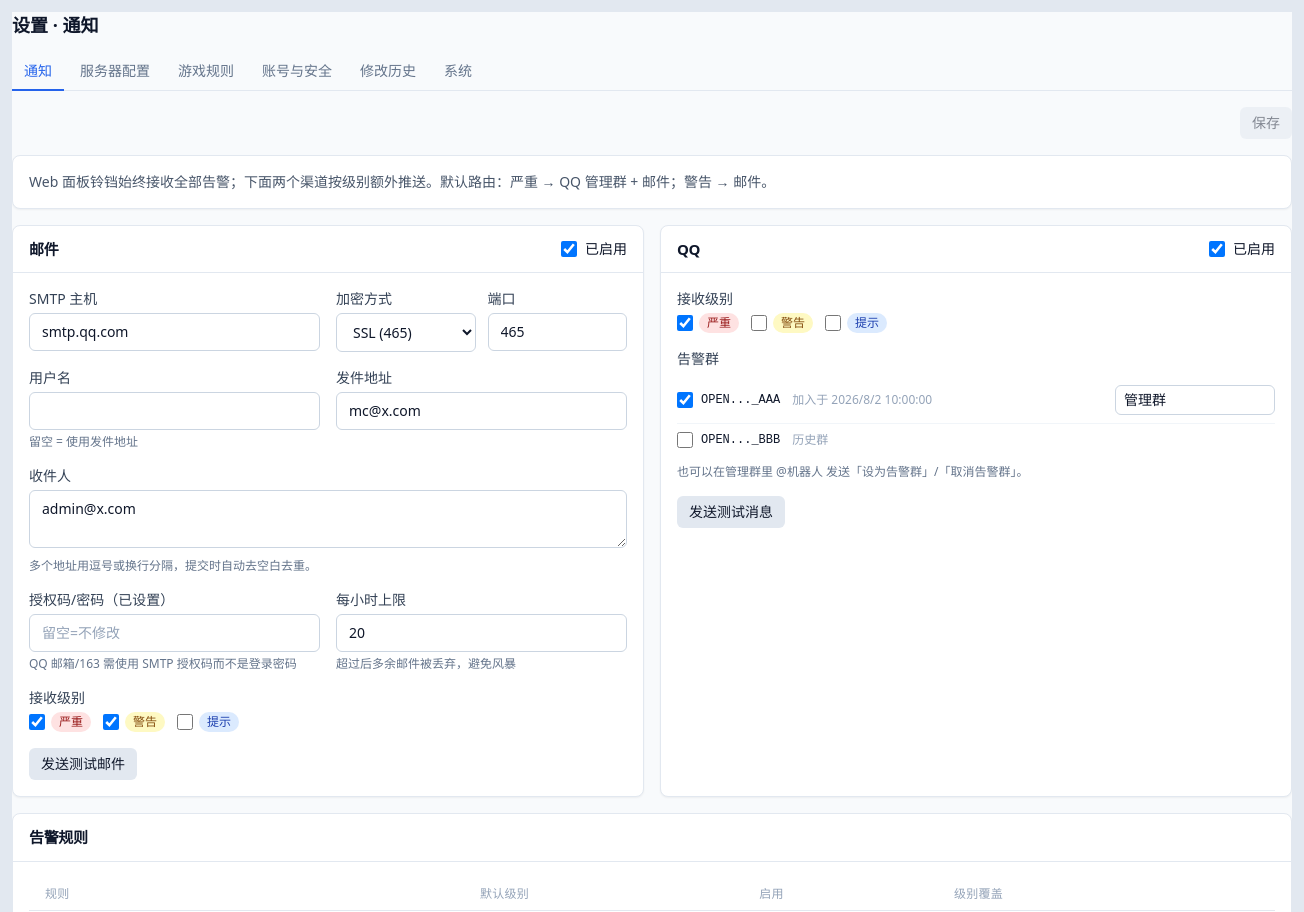
Scenario: SettingsPage › disables the test button when there are unsaved changes
Check: the button "发送测试邮件" is enabled, box [29,748,137,780]
Type "smtp.example.com" into the field labelled "SMTP 主机" at [174, 332], box [29,313,320,351]
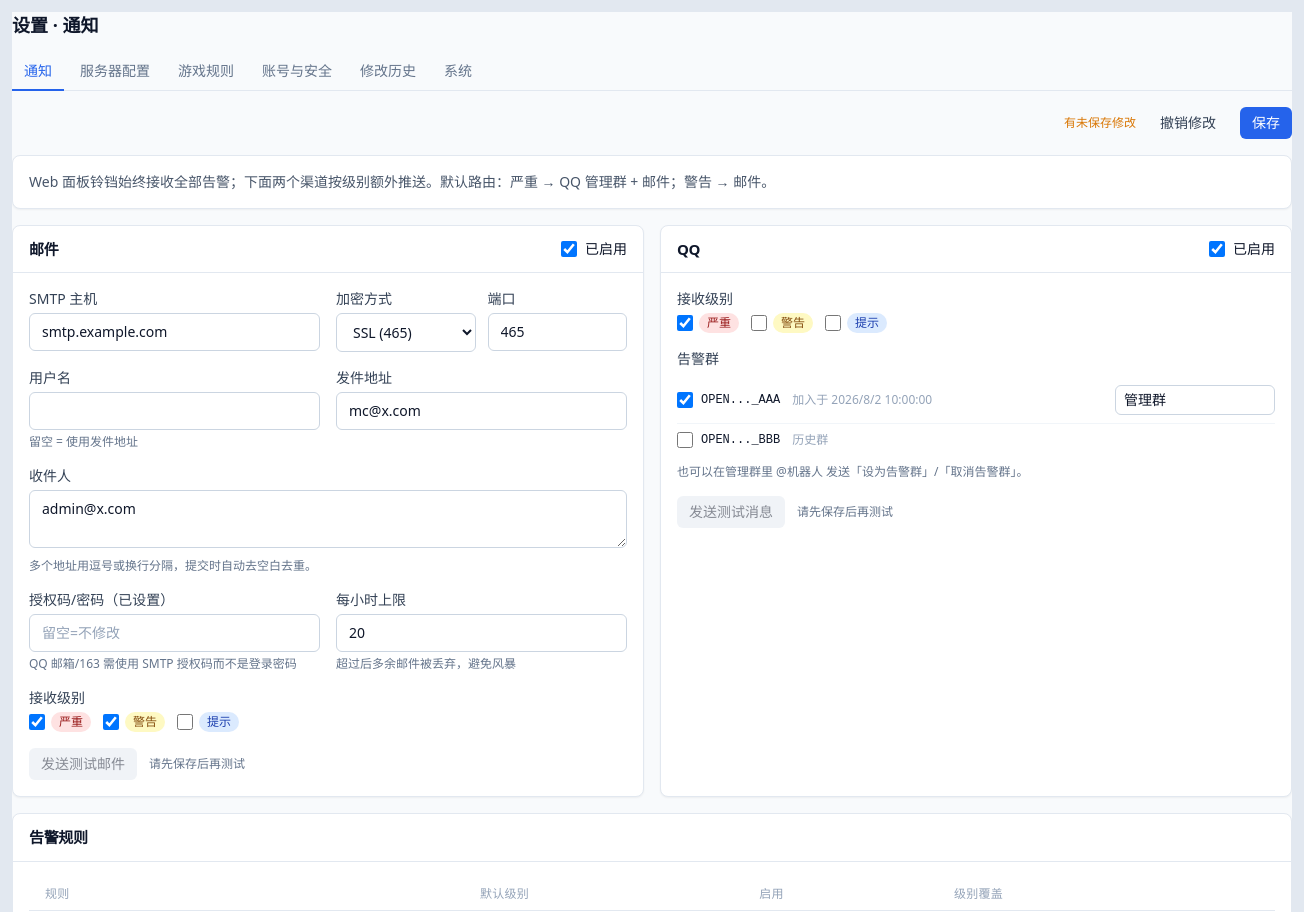
Check: the button "发送测试邮件" is disabled, box [29,748,137,780]
Check: the text "请先保存后再测试" below "QQ 邮箱/163 需使用 SMTP 授权码而不是登录密码" is shown, box [149,755,245,772]
